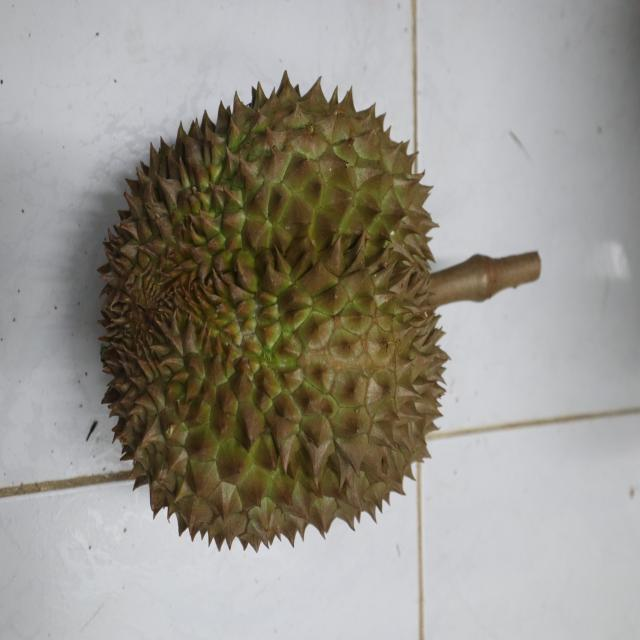mature: (97, 71, 452, 549)
